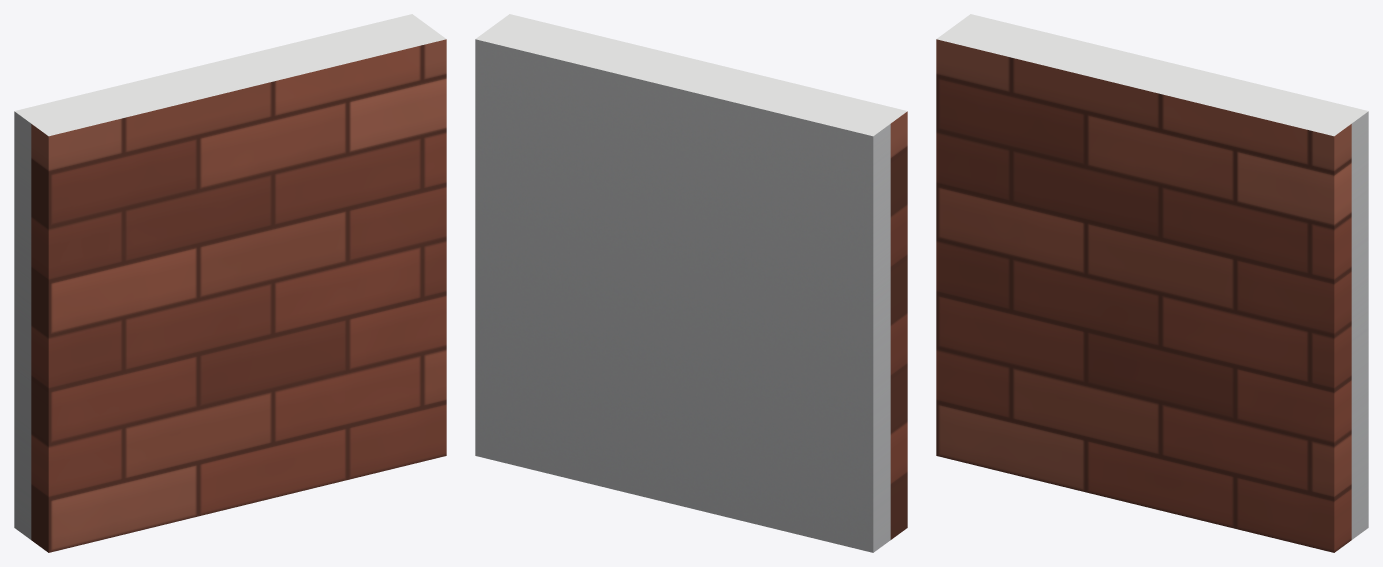
The model's file is mureta_1m.glb.
The picture shows the model from 3 angles, left to right: view 1: azimuth 30°, elevation 25°; view 2: azimuth 150°, elevation 25°; view 3: azimuth 330°, elevation 25°; orthographic projection.
Parts seen in each view (by area): view 1: mureta_1m; view 2: mureta_1m; view 3: mureta_1m.
Boxes of the visible parts, left/top/right/bottom form: mureta_1m: left=14, top=14, right=446, bottom=552; mureta_1m: left=475, top=14, right=907, bottom=552; mureta_1m: left=936, top=14, right=1368, bottom=552.
Bounding box in the file's own units: 1 × 1 × 0.15.
3 materials, 2 textured.
